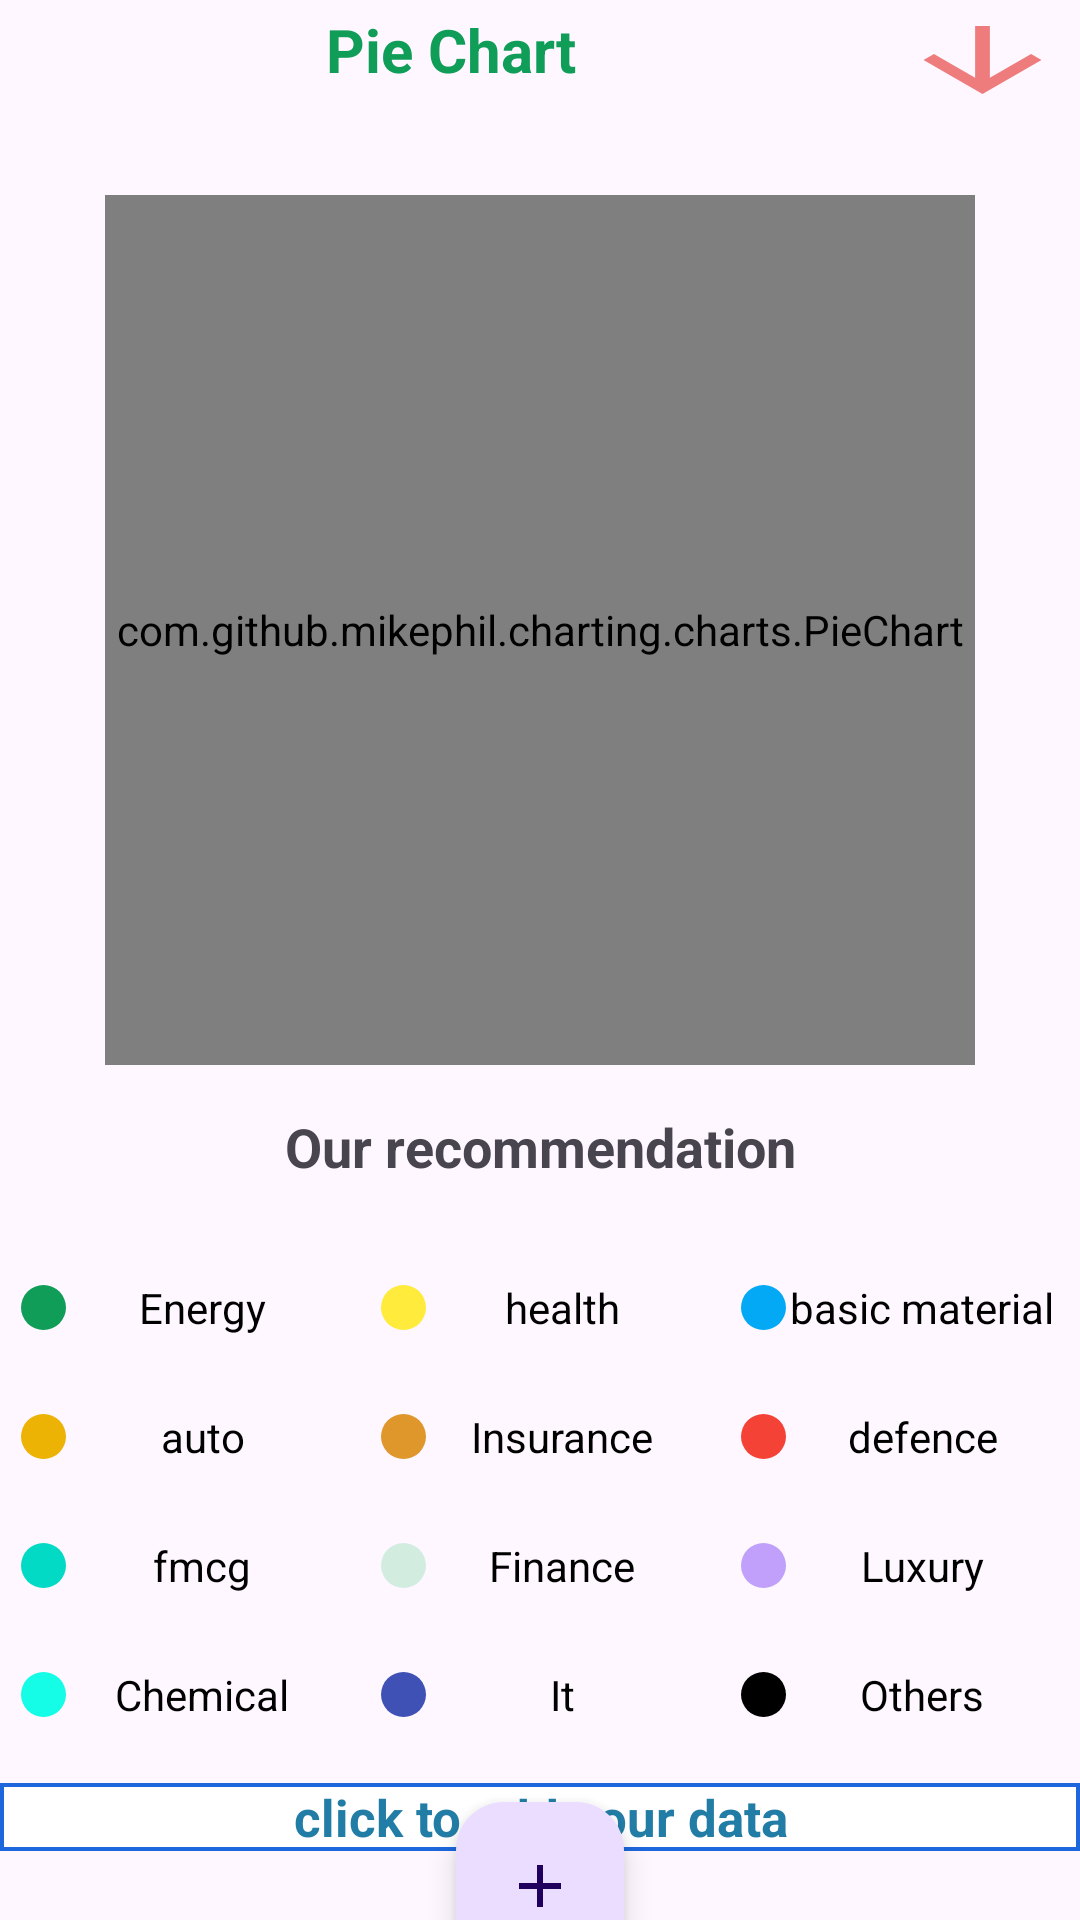

Where to tap for icons on this 1080x1920 app screen, as (x,y):
arrow downward: (982,60)
